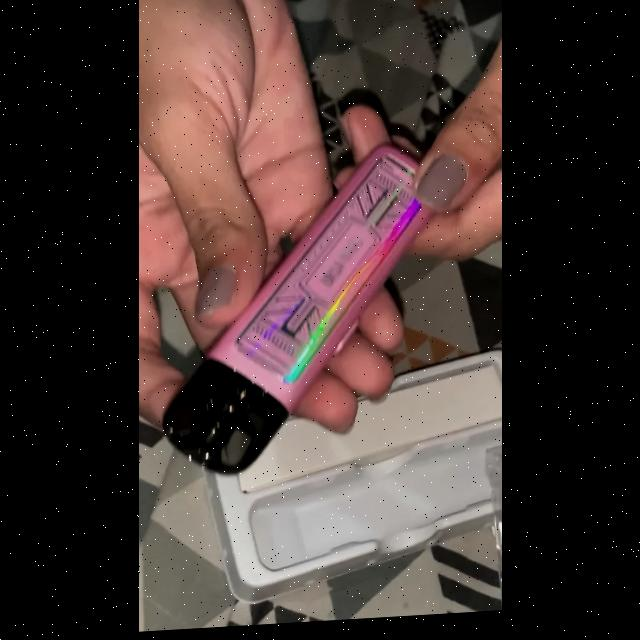vape: (162, 151, 443, 478)
